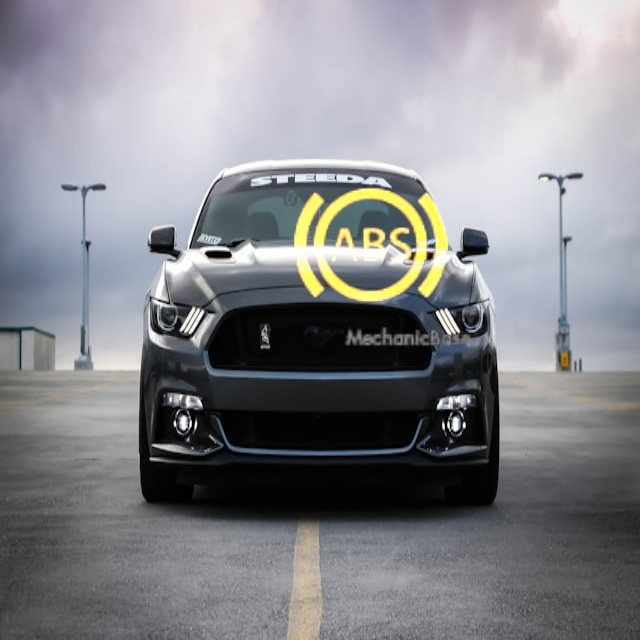symbol: (261, 138, 479, 356)
